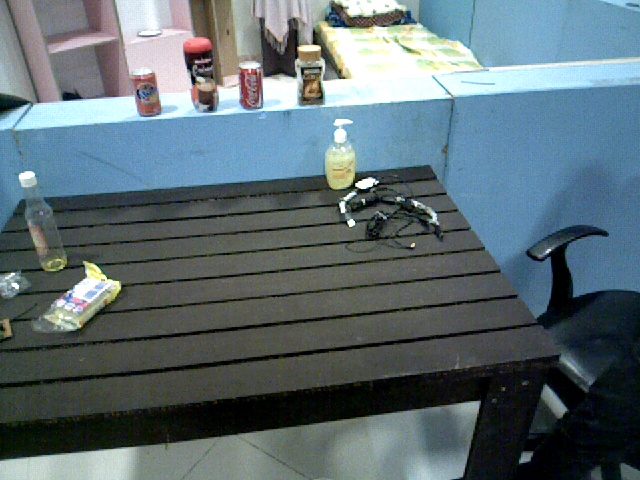coca: (237, 60, 265, 111)
coffee: (297, 43, 325, 104)
cream: (184, 37, 221, 113)
fanta: (130, 67, 162, 117)
